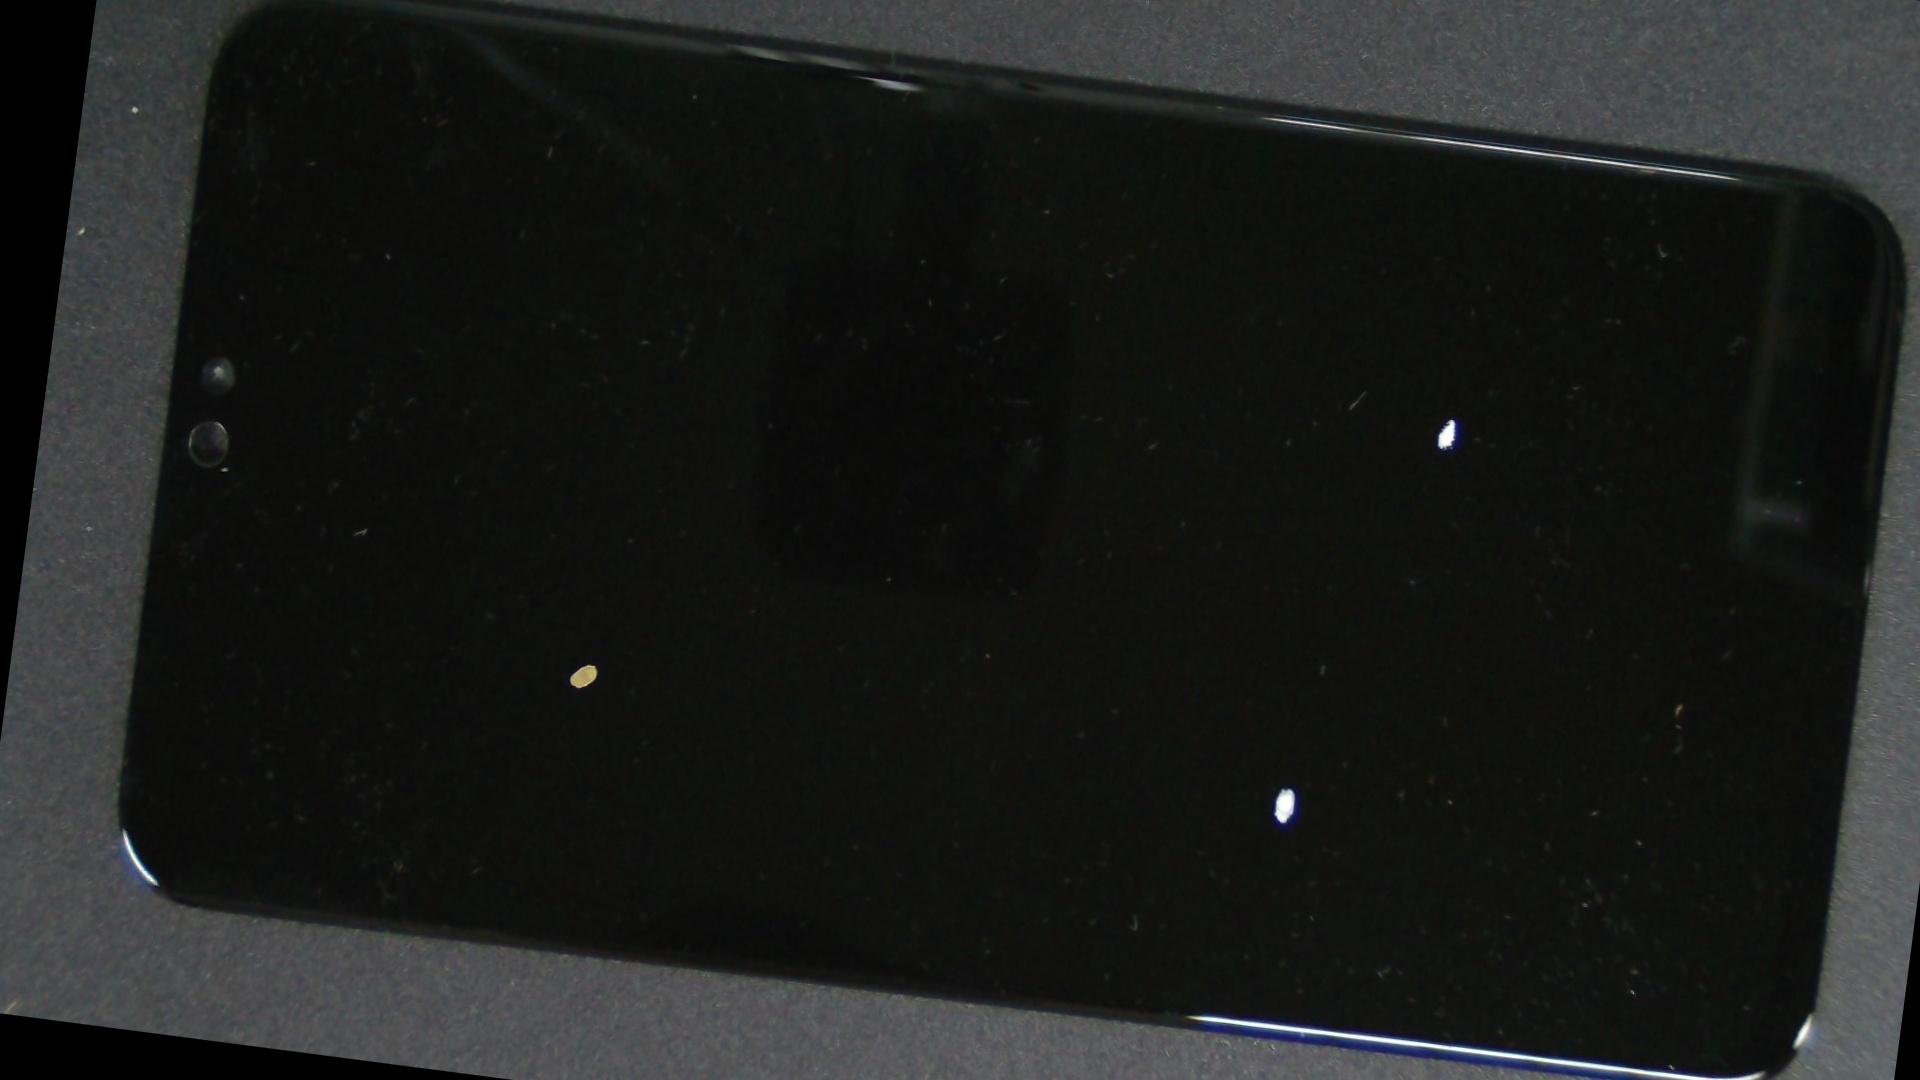oil: (601, 274, 1920, 1080), (728, 92, 1920, 723), (251, 215, 924, 1080)
